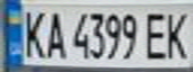3: (87, 9, 106, 60)
4: (66, 7, 90, 60)
9: (121, 8, 142, 61), (103, 9, 124, 60)
A: (42, 7, 69, 60)
E: (142, 8, 172, 61)
K: (160, 7, 193, 61), (18, 6, 48, 60)
